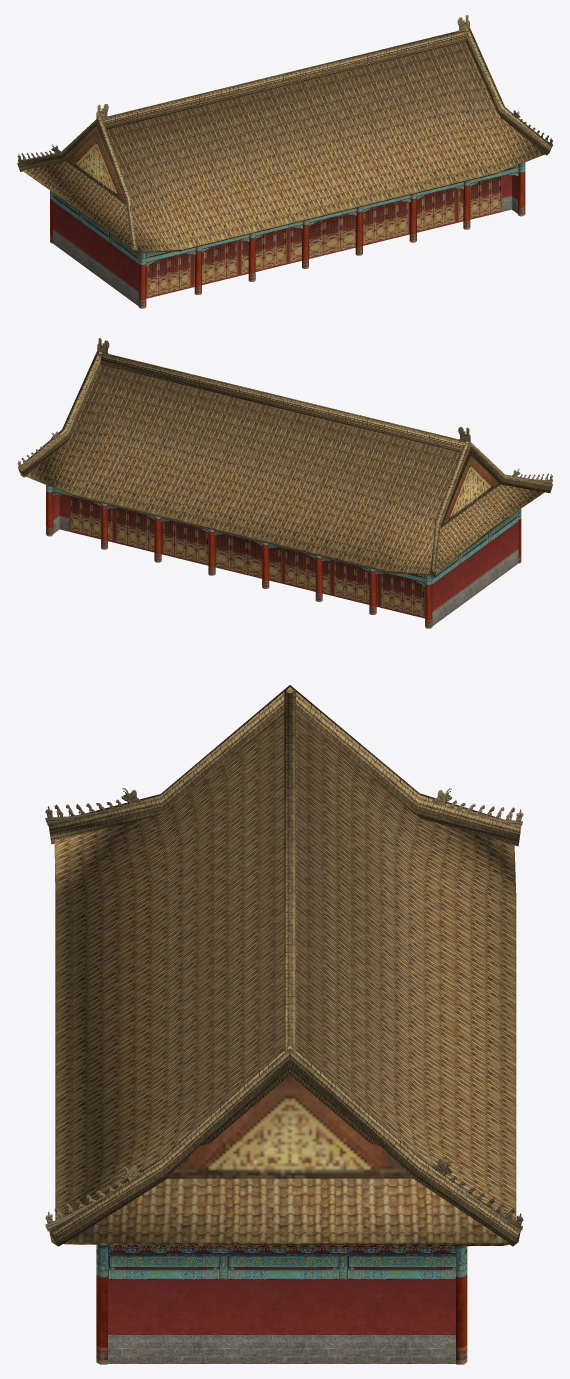
File: cj_pal_guard_buil.glb
3 views of the same model, one above another, from view 1: azimuth 30°, elevation 25°; view 2: azimuth 150°, elevation 25°; view 3: azimuth 270°, elevation 25° (orthographic). The views are drawn at different scales.
Parts seen in each view (by area): view 1: CJ_pal_guard_buil_roof01, CJ_pal_guard_buil_wall01, CJ_pal_guard_buil_wall02, CJ_pal_guard_buil_wall01_al, CJ_pal_guard_buil_roof03_al; view 2: CJ_pal_guard_buil_roof01, CJ_pal_guard_buil_wall01, CJ_pal_guard_buil_wall02, CJ_pal_guard_buil_wall01_al, CJ_pal_guard_buil_roof03_al; view 3: CJ_pal_guard_buil_roof01, CJ_pal_guard_buil_wall02, CJ_pal_guard_buil_wall01, CJ_pal_guard_buil_roof03_al.
Boxes of the visible parts, left/top/right/bottom form: CJ_pal_guard_buil_roof01: left=17, top=28, right=551, bottom=254; CJ_pal_guard_buil_wall01: left=50, top=162, right=525, bottom=308; CJ_pal_guard_buil_wall02: left=52, top=174, right=517, bottom=306; CJ_pal_guard_buil_wall01_al: left=146, top=165, right=518, bottom=266; CJ_pal_guard_buil_roof03_al: left=17, top=110, right=552, bottom=248; CJ_pal_guard_buil_roof01: left=18, top=351, right=553, bottom=576; CJ_pal_guard_buil_wall01: left=46, top=485, right=521, bottom=628; CJ_pal_guard_buil_wall02: left=53, top=494, right=518, bottom=626; CJ_pal_guard_buil_wall01_al: left=52, top=488, right=424, bottom=586; CJ_pal_guard_buil_roof03_al: left=17, top=431, right=552, bottom=565; CJ_pal_guard_buil_roof01: left=48, top=685, right=521, bottom=1247; CJ_pal_guard_buil_wall02: left=108, top=1280, right=455, bottom=1363; CJ_pal_guard_buil_wall01: left=96, top=1244, right=467, bottom=1364; CJ_pal_guard_buil_roof03_al: left=45, top=788, right=523, bottom=1232.
Size of the model in its own units: 30.09 by 11.48 by 15.28.
6 materials, 6 textured.
